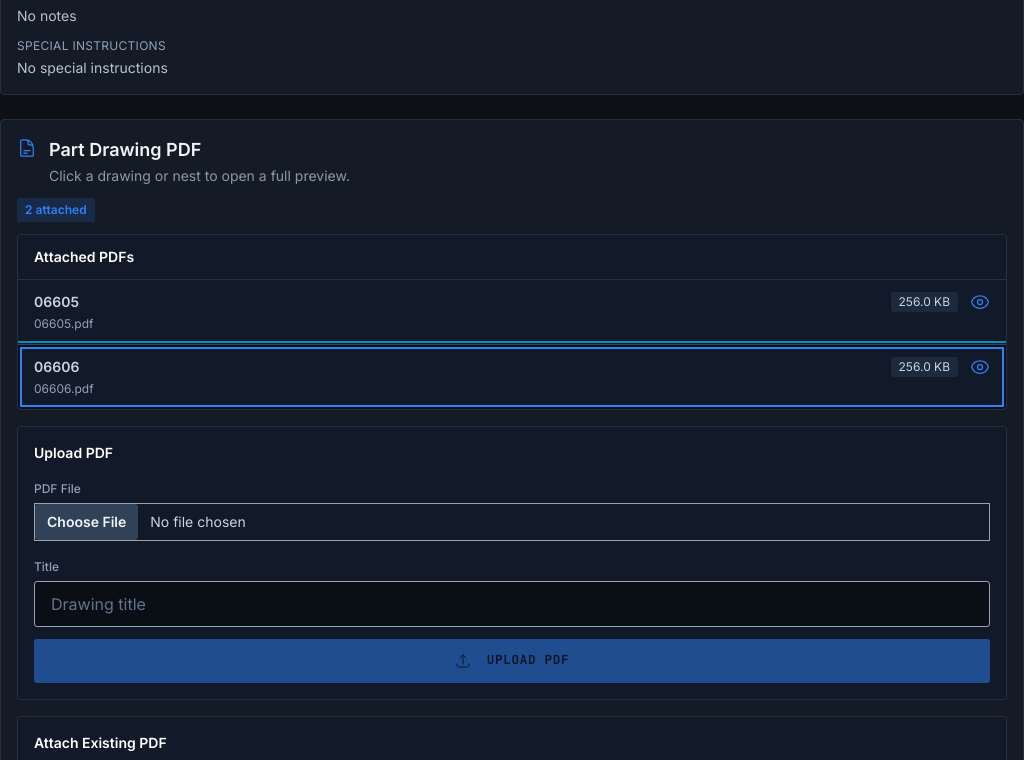
it: loads only the clicked attachment in a popup, closes with Escape, and reopens another drawing
(page scrolled)
Click the button with aria-label "Preview 06606".
click(57, 366)  # box x1=18 y1=344 x2=1006 y2=408
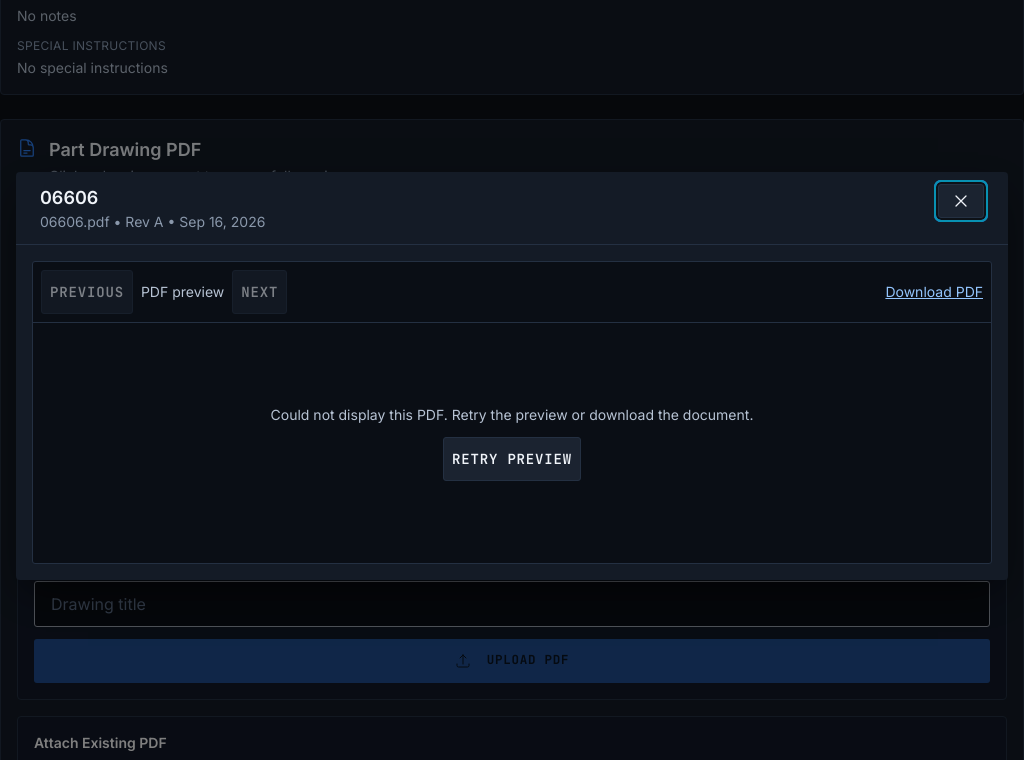
Press Escape
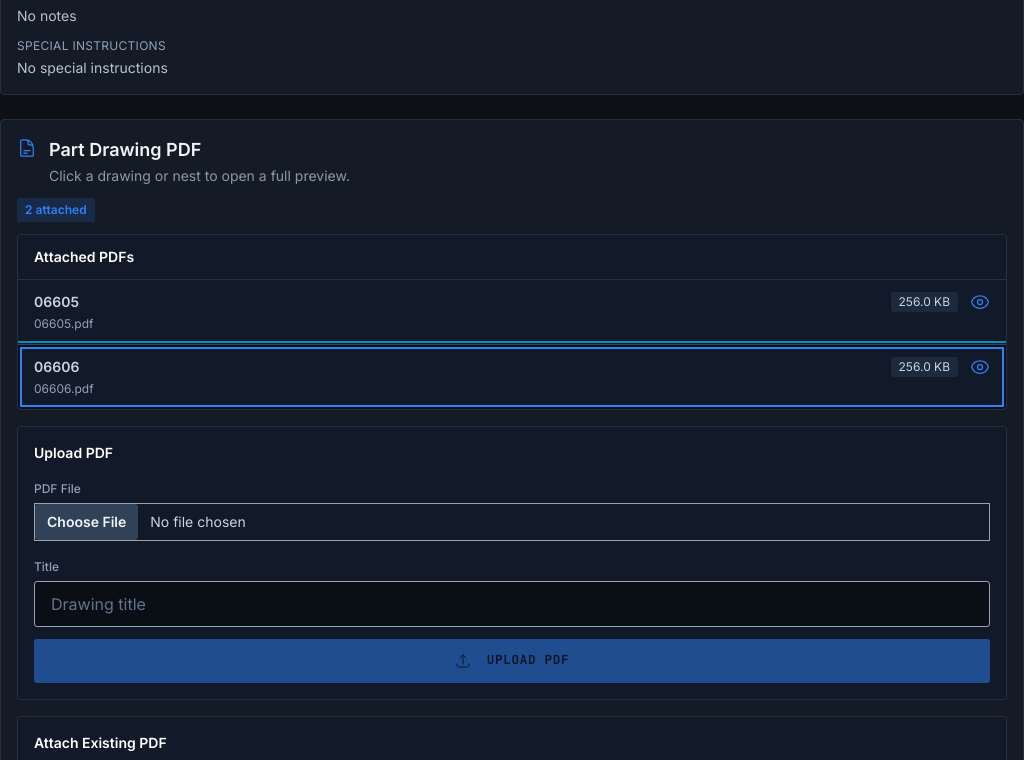
Expected: the dialog is gone
Click the button with aria-label "Preview 06605".
click(56, 301)  # box x1=18 y1=280 x2=1006 y2=344
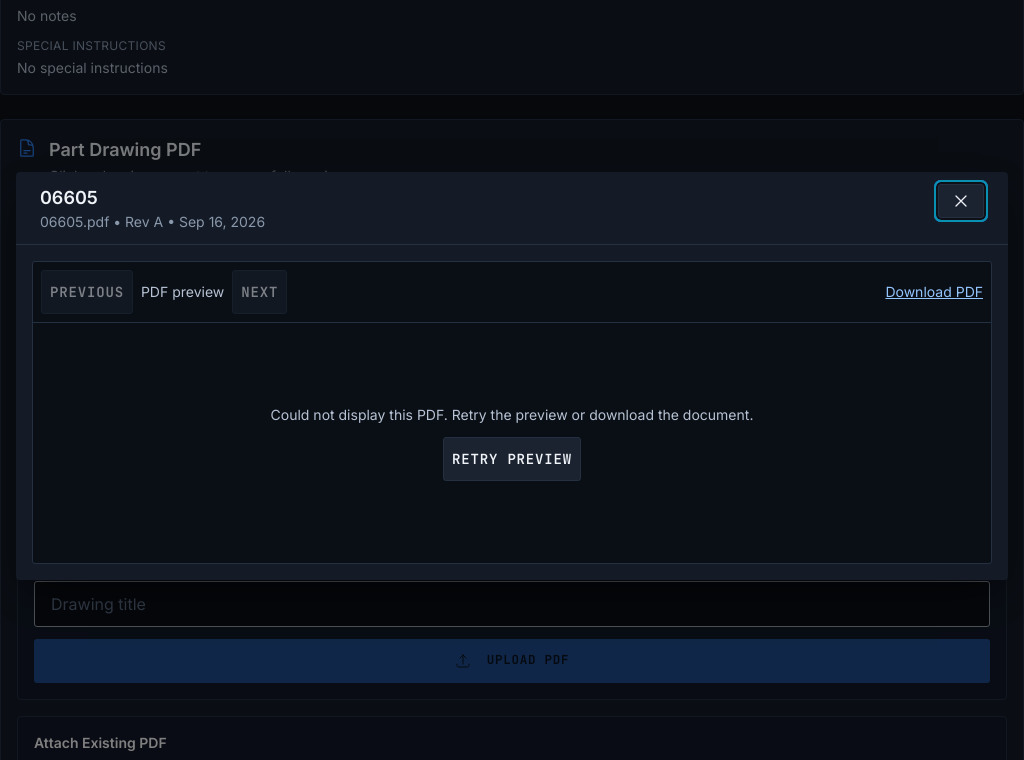
Expected: the link "Download PDF" has attribute download="06605.pdf", x1=885 y1=282 x2=983 y2=302
Click the button named "Close preview".
click(961, 201)  # box x1=938 y1=184 x2=984 y2=218
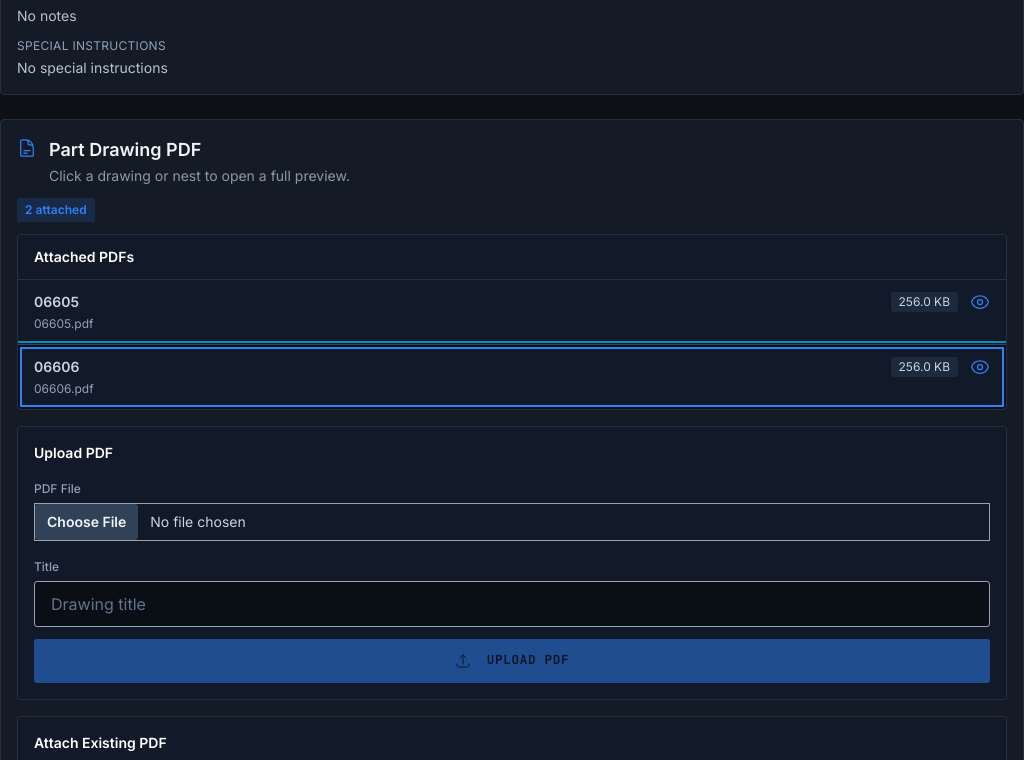
Expected: the dialog is gone
